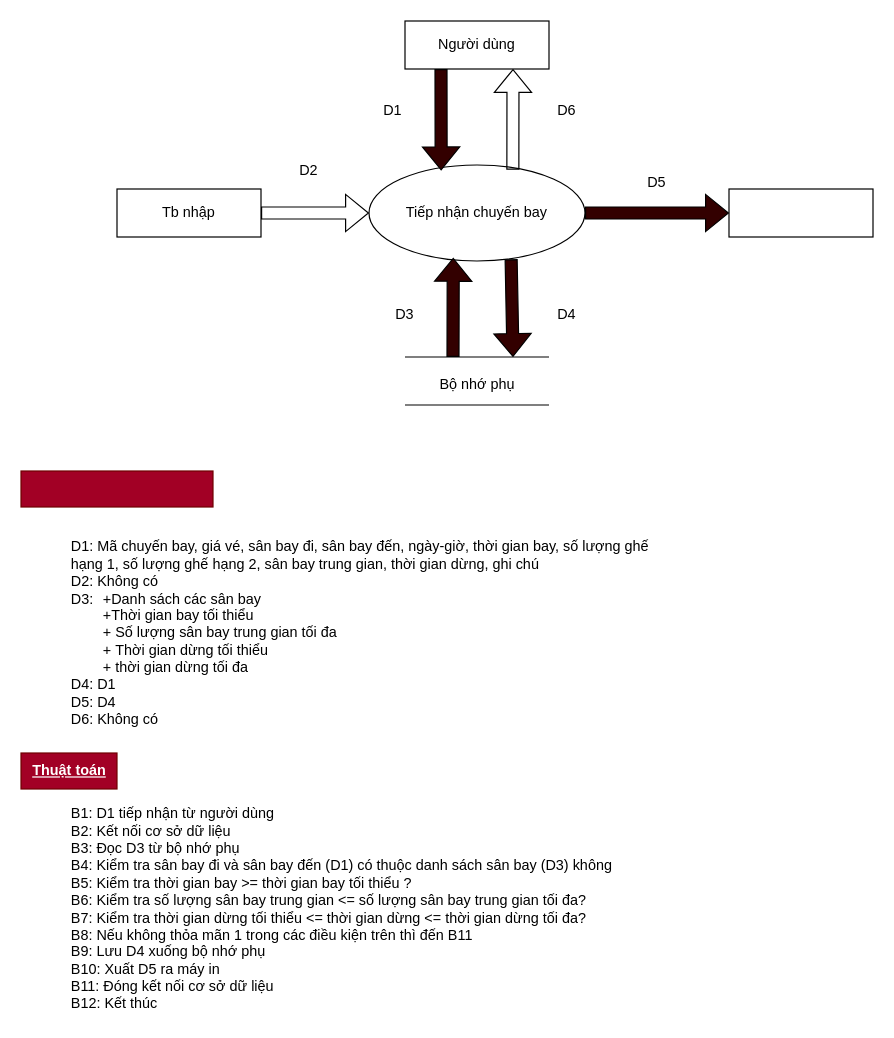
The diagram is 894 pixels wide and 1038 high, and some of its shapes have lost their labels. The centre of each missing label's shape, as x and y in pixels:
Mô tả các luồng dữ liệu: the point at 116,488
Tb xuất: the point at 800,212
